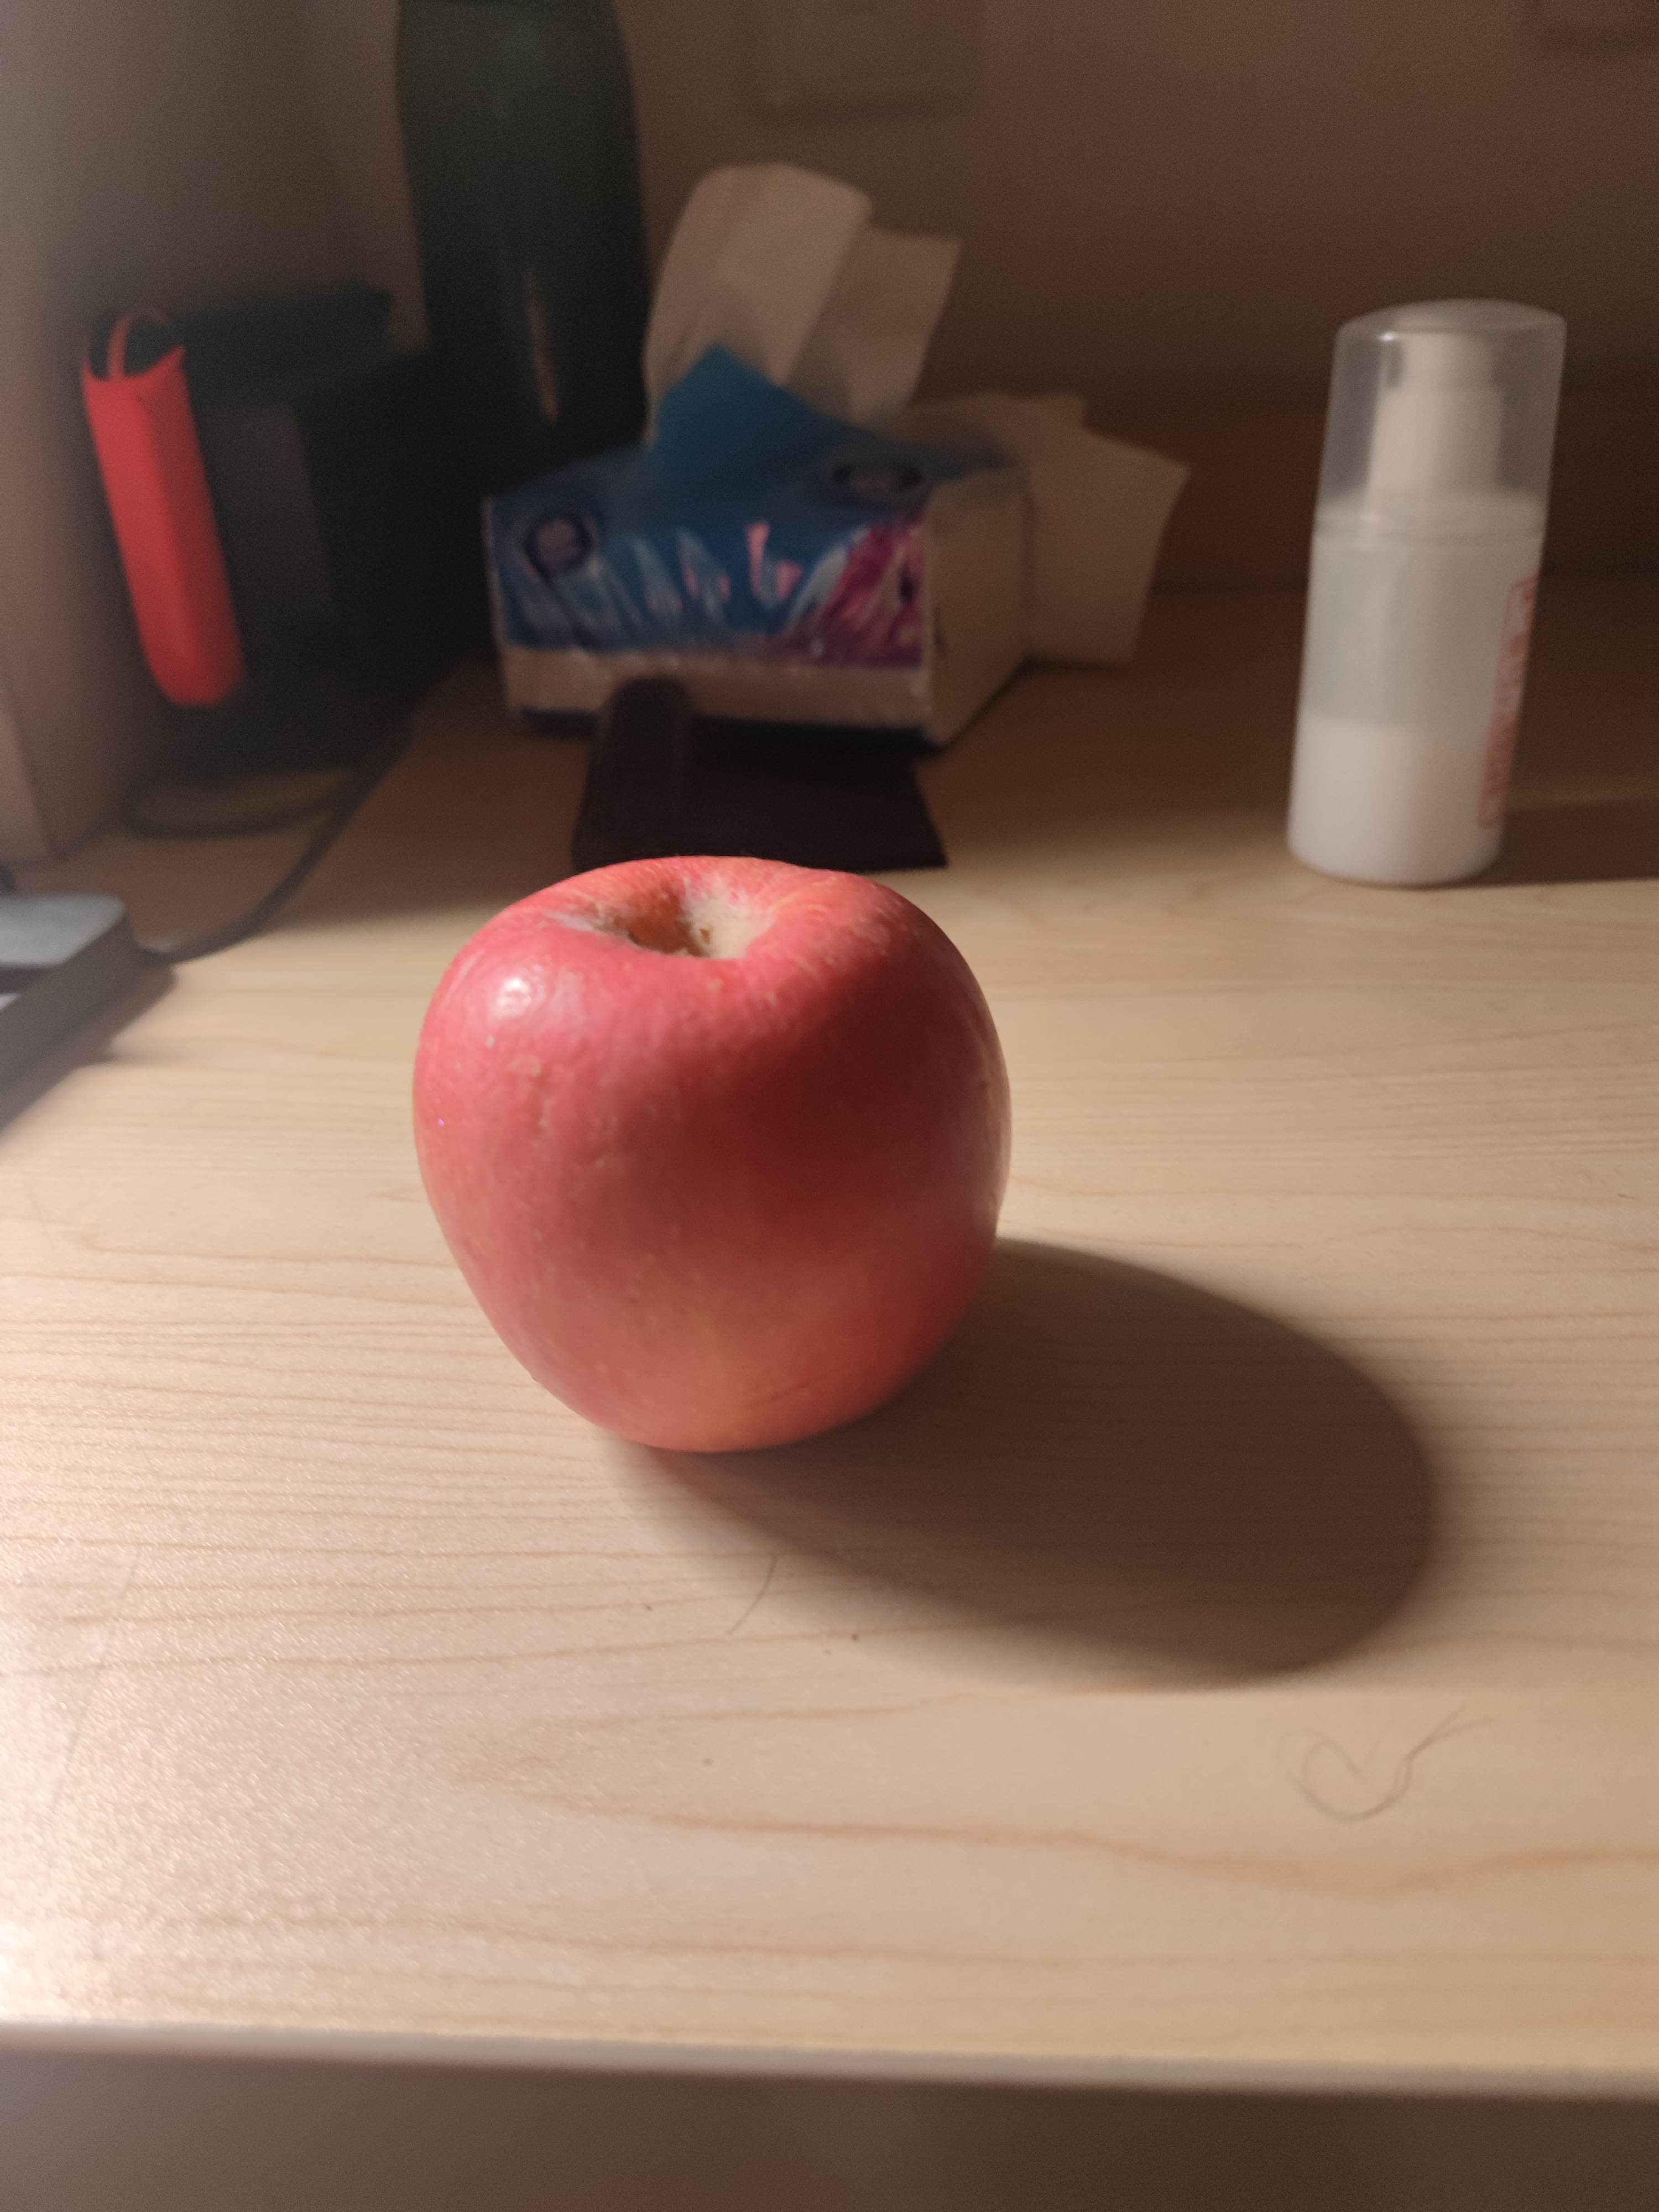apple: (411, 853, 1012, 1454)
